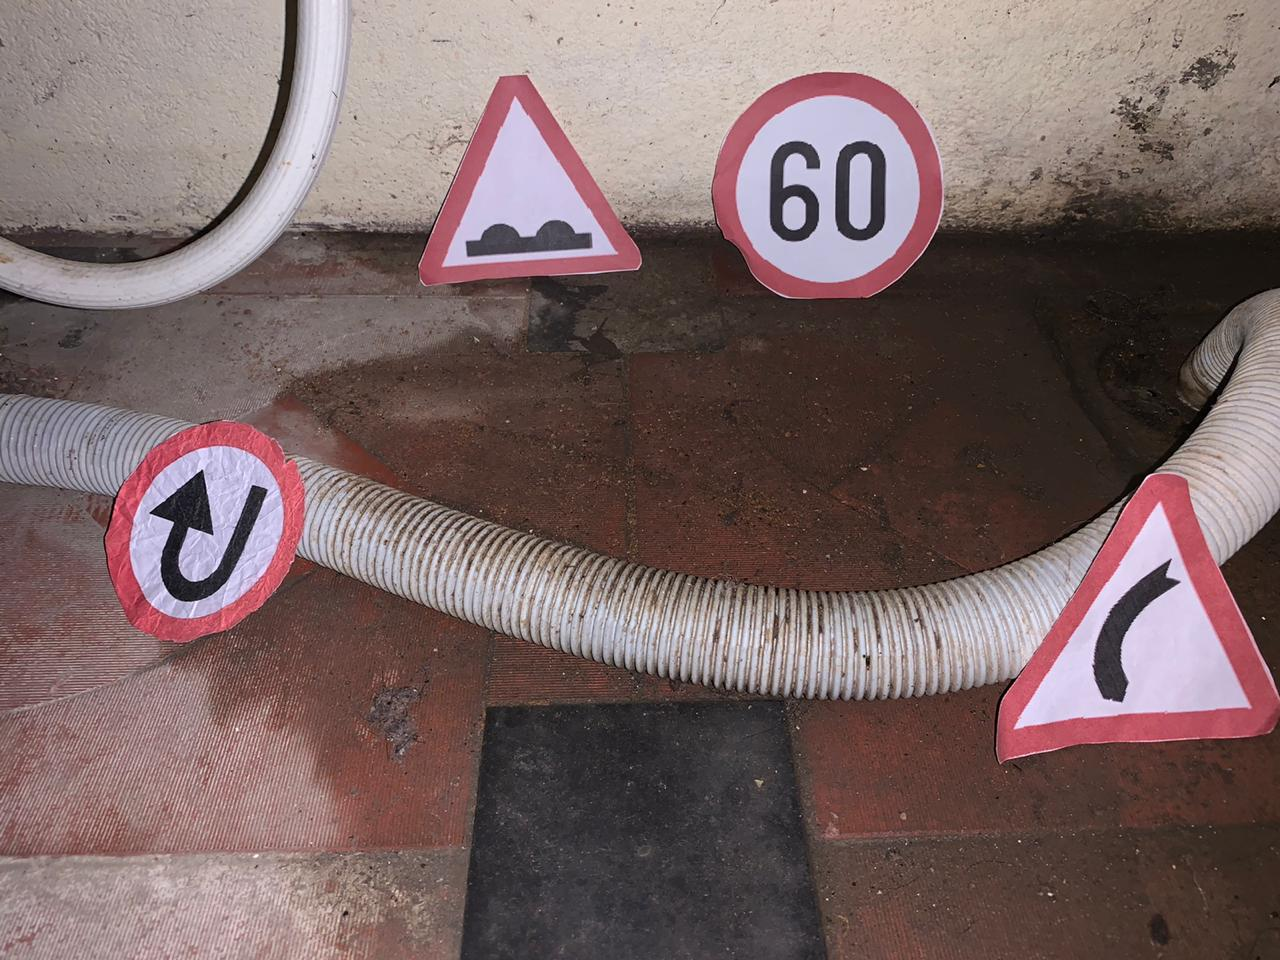LEFT CURVE: (988, 439, 1280, 732)
SPEED LIMIT (60 KM/H): (705, 50, 983, 327)
U-TURN: (90, 389, 331, 678)
UNEVEN ROAD: (390, 64, 668, 268)
